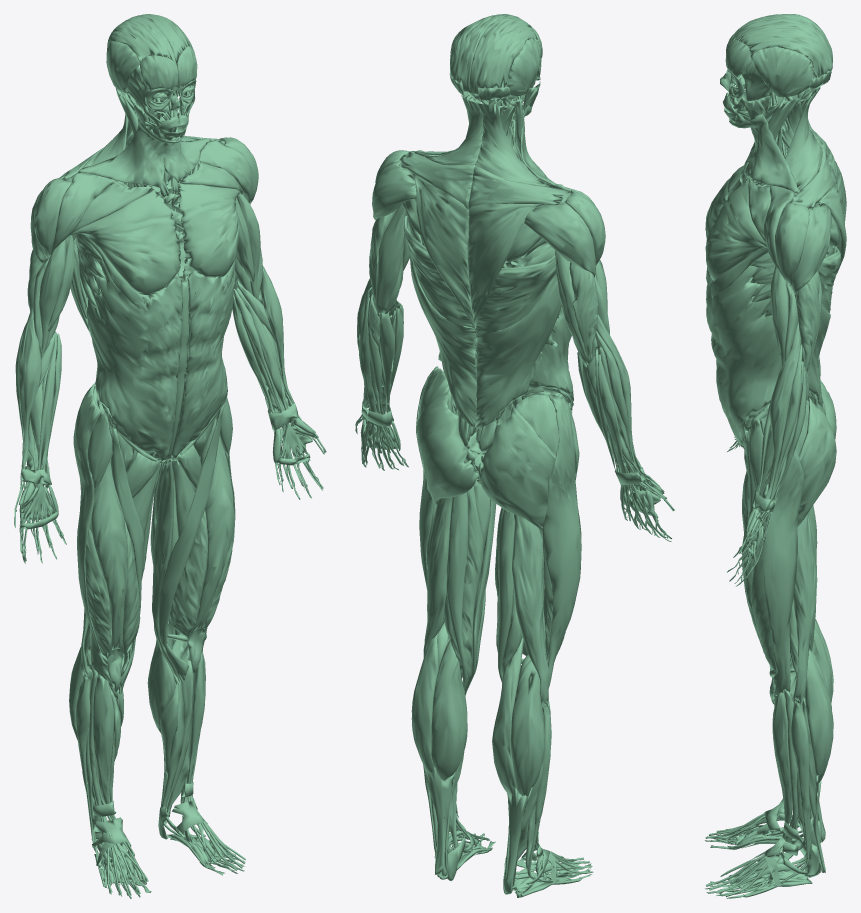
File: muscles.glb
3 renders of one model, left to right at view 1: azimuth 30°, elevation 25°; view 2: azimuth 150°, elevation 25°; view 3: azimuth 270°, elevation 25°, orthographic. The views are drawn at different scales.
Parts seen in each view (by area): view 1: muscles; view 2: muscles; view 3: muscles.
Part boxes in pixels (x1,y1,x2,y2): muscles: [14, 14, 326, 898]; muscles: [355, 14, 674, 897]; muscles: [705, 14, 846, 898].
Size of the model in its own units: 0.7716 by 1.99 by 0.3025.
